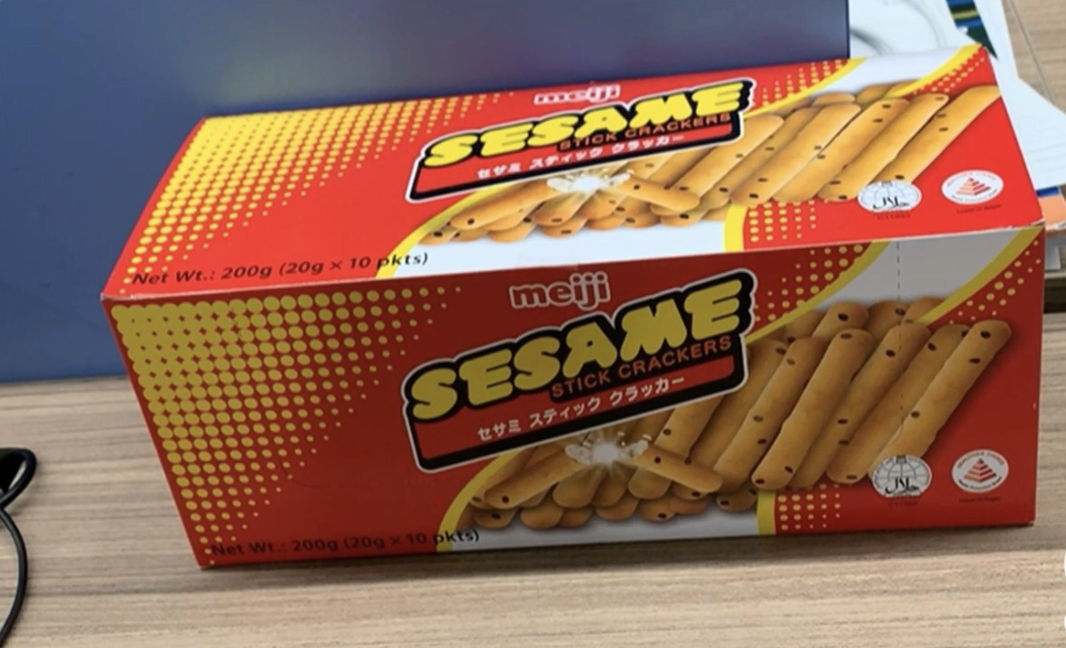crackers_150g: (162, 251, 1025, 516)
